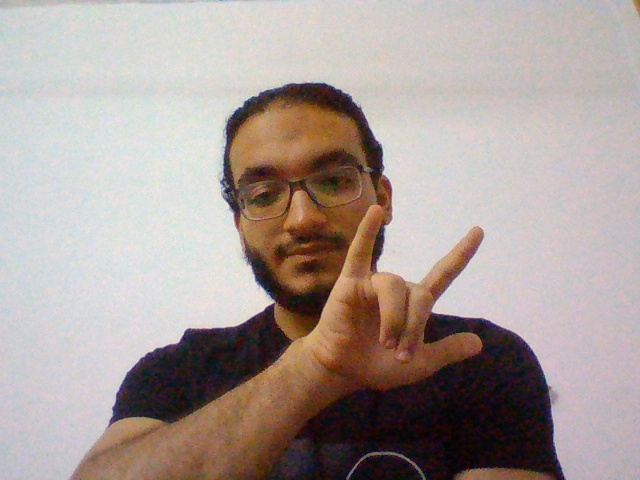I Love Yoy: (313, 201, 490, 402)
